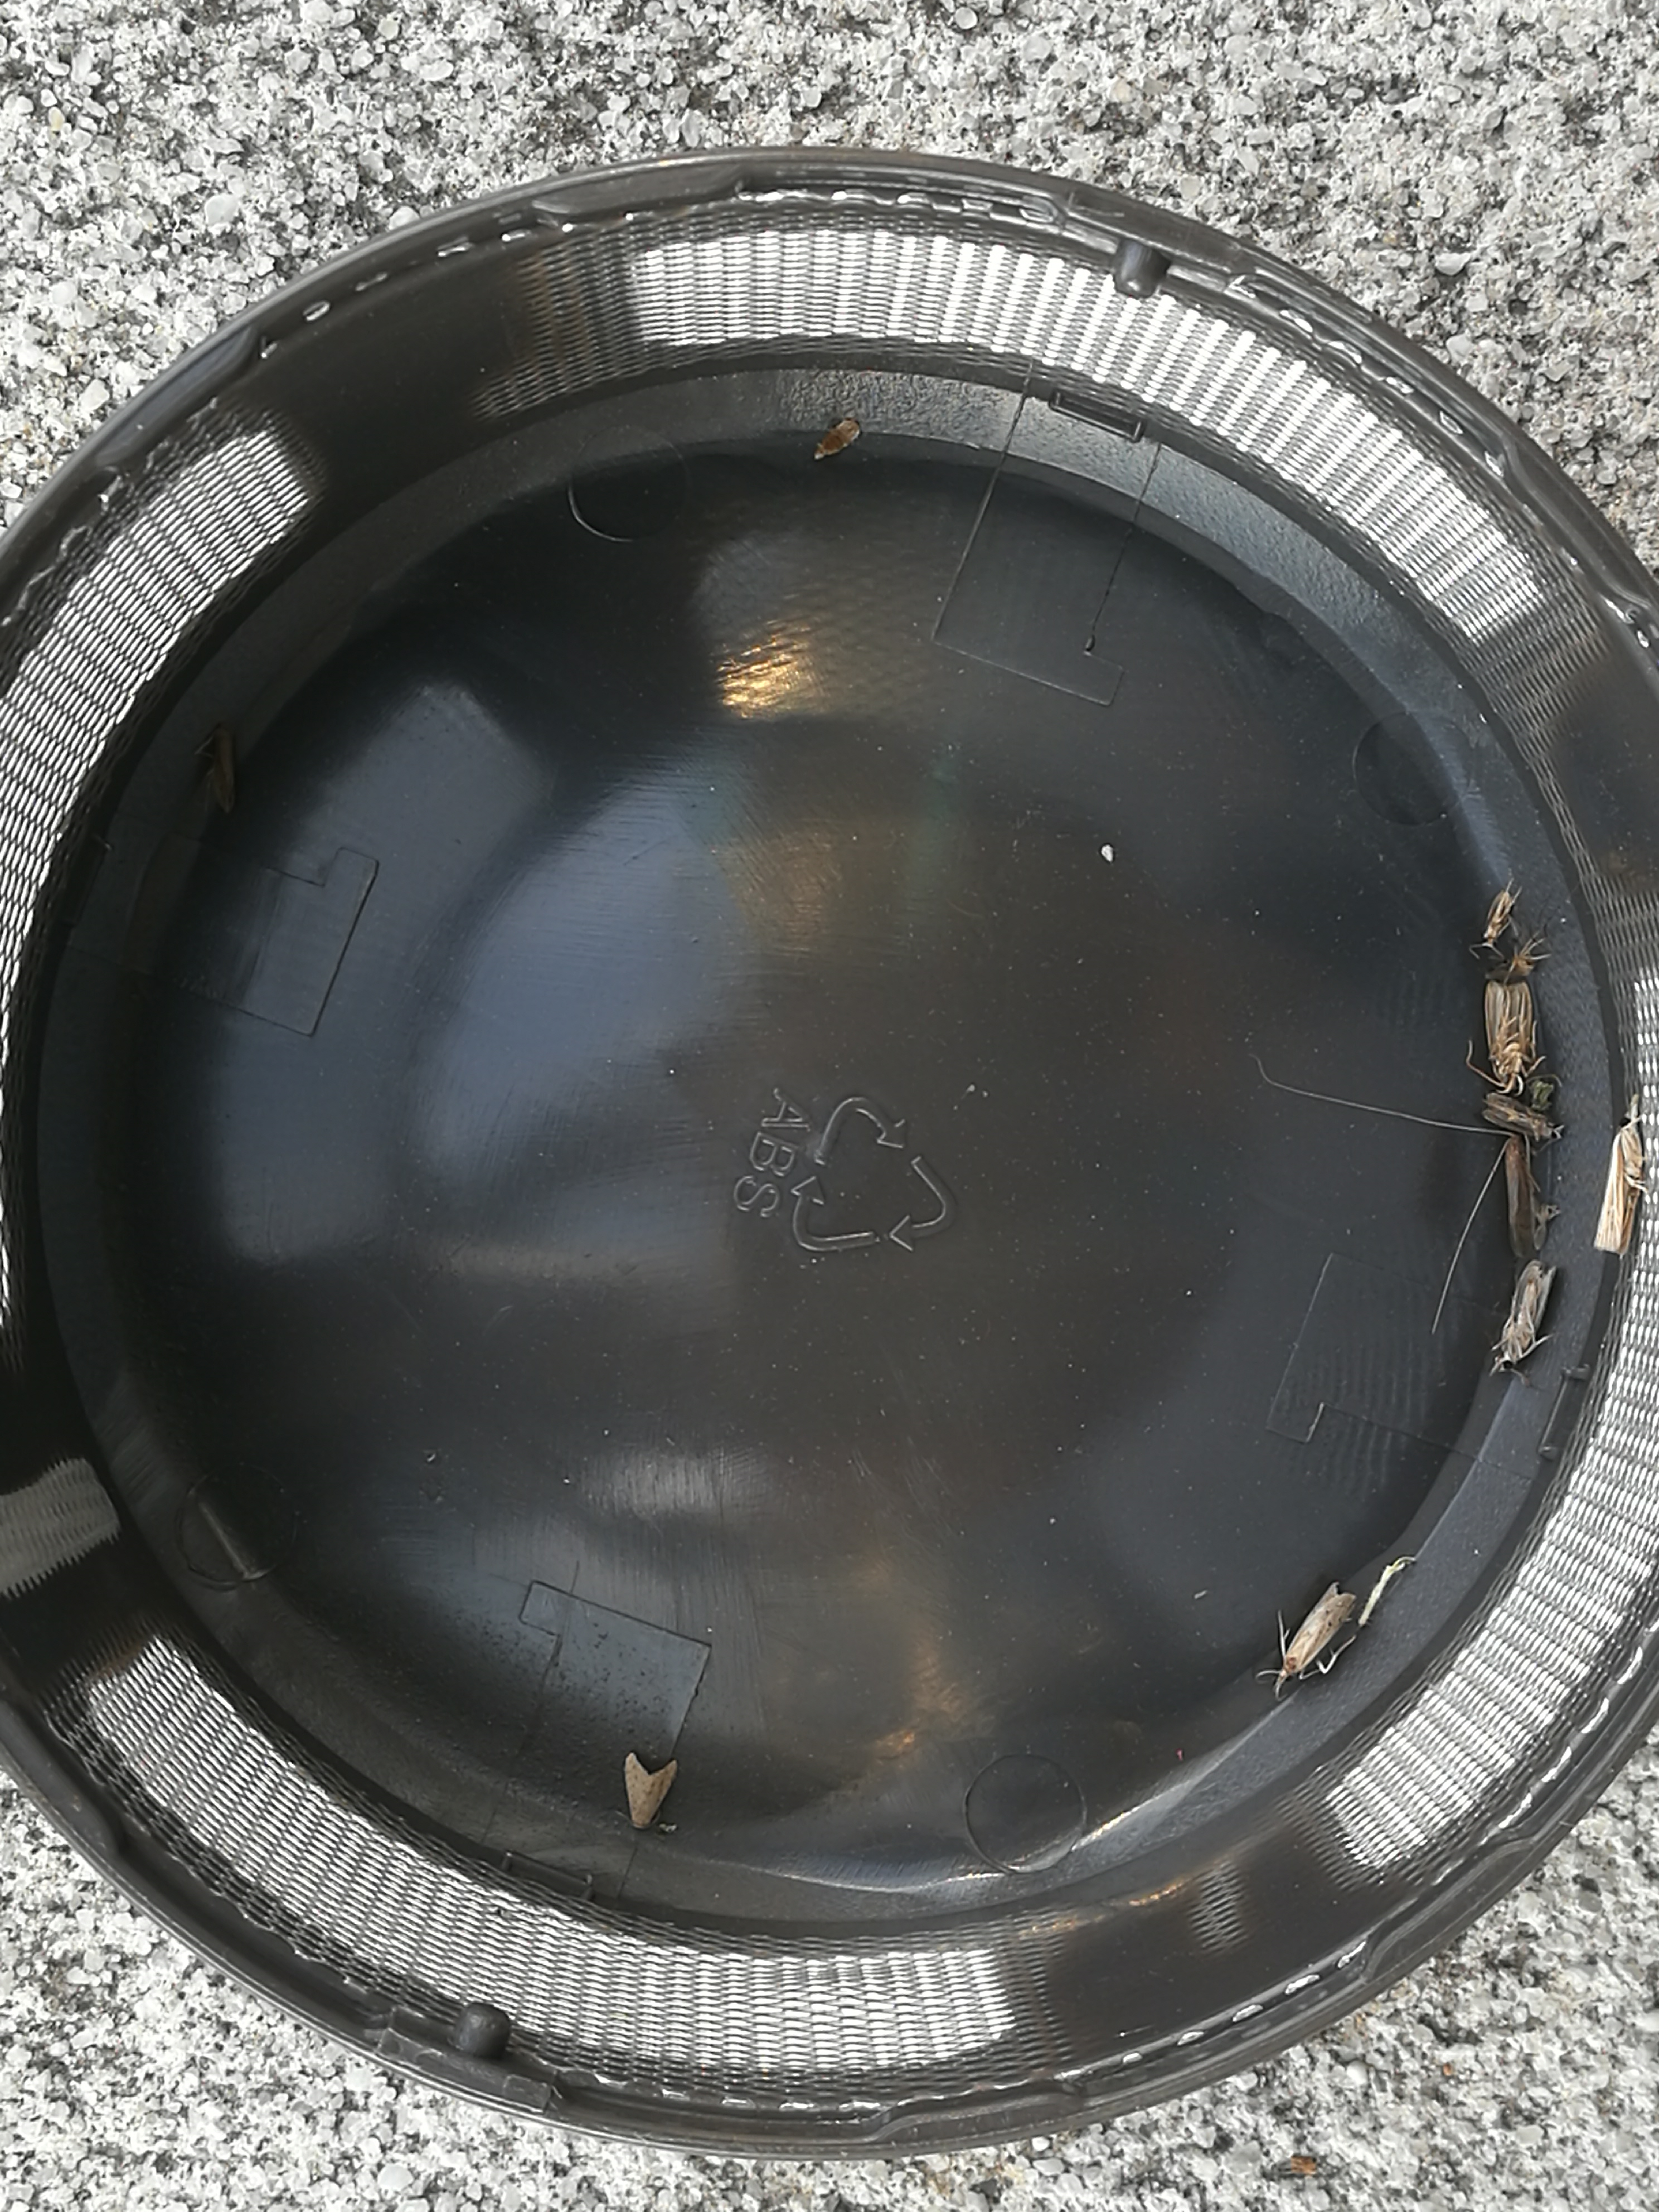mosquito: (1593, 1094, 1642, 1252), (1281, 1581, 1354, 1677), (1493, 1259, 1554, 1374), (1506, 1137, 1535, 1256), (1485, 1096, 1560, 1137), (211, 721, 235, 810), (1483, 888, 1513, 949)
moth: (1486, 981, 1534, 1089), (624, 1752, 678, 1827)
